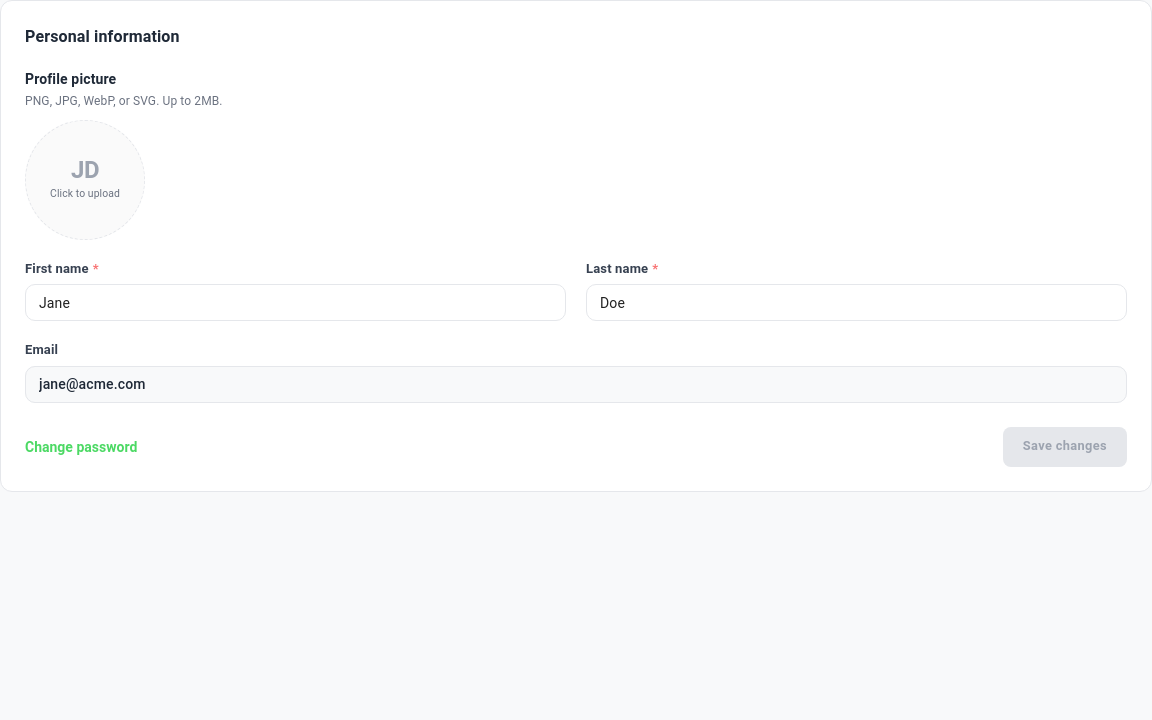
Test case: PersonalTab › change password sends a reset email and shows the inbox block
This screenshot has width=1152, height=720.
Click the button "Change password" at [81, 447], box left=25, top=439, right=137, bottom=455
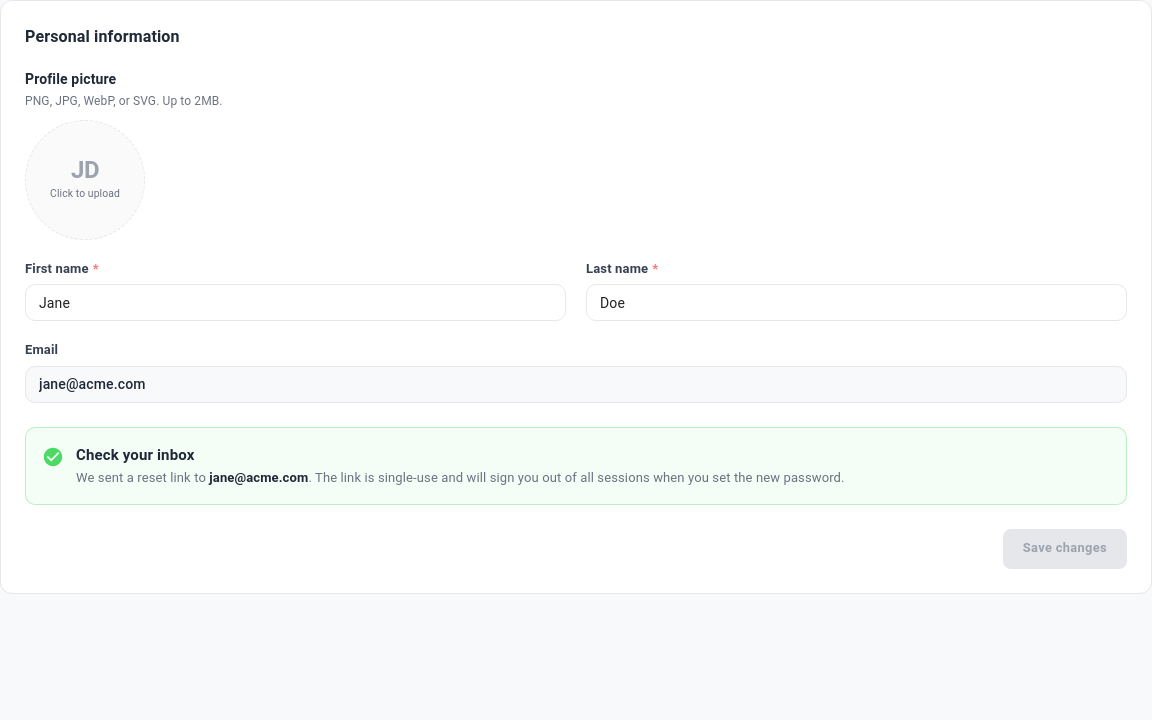
Now the text "Check your inbox" is shown, box left=76, top=446, right=194, bottom=464
